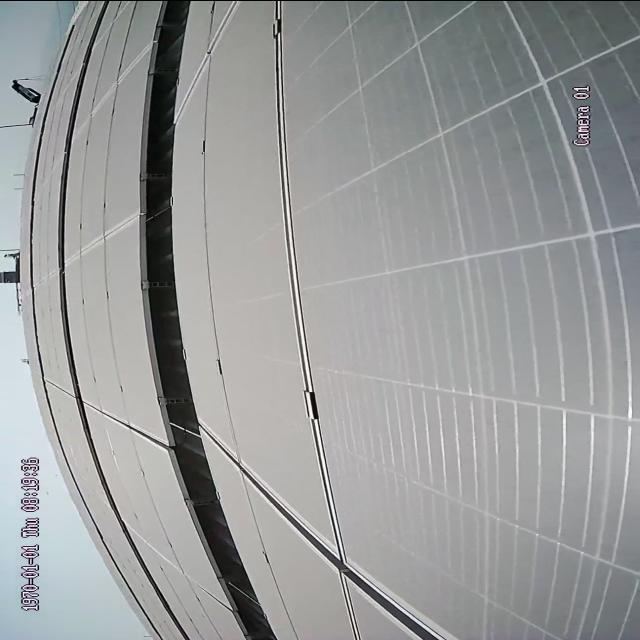interior panel: (200, 9, 455, 640), (186, 1, 243, 113), (87, 395, 158, 454), (72, 206, 133, 264)
outher panel: (133, 5, 280, 638)
